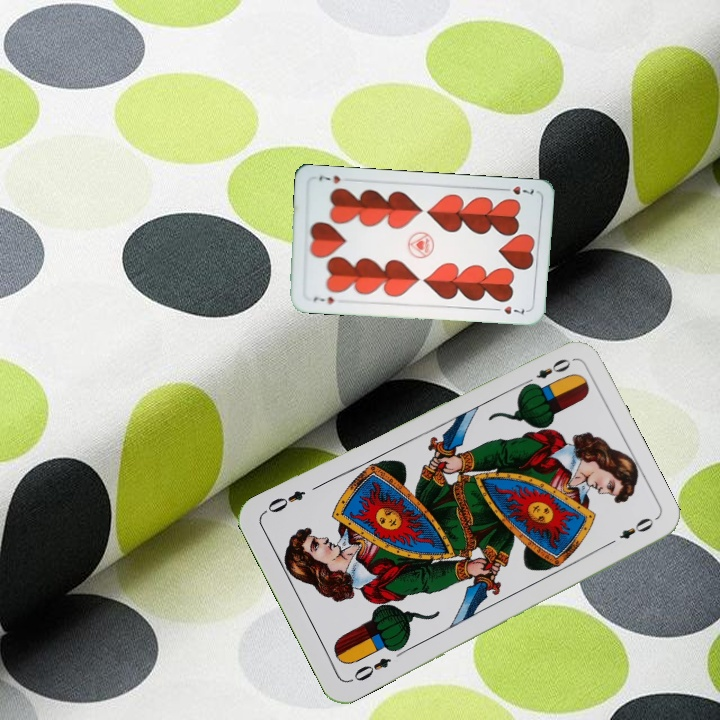EO: (519, 354, 574, 389), (349, 653, 394, 684)
H7: (498, 182, 537, 197), (310, 292, 337, 307)
